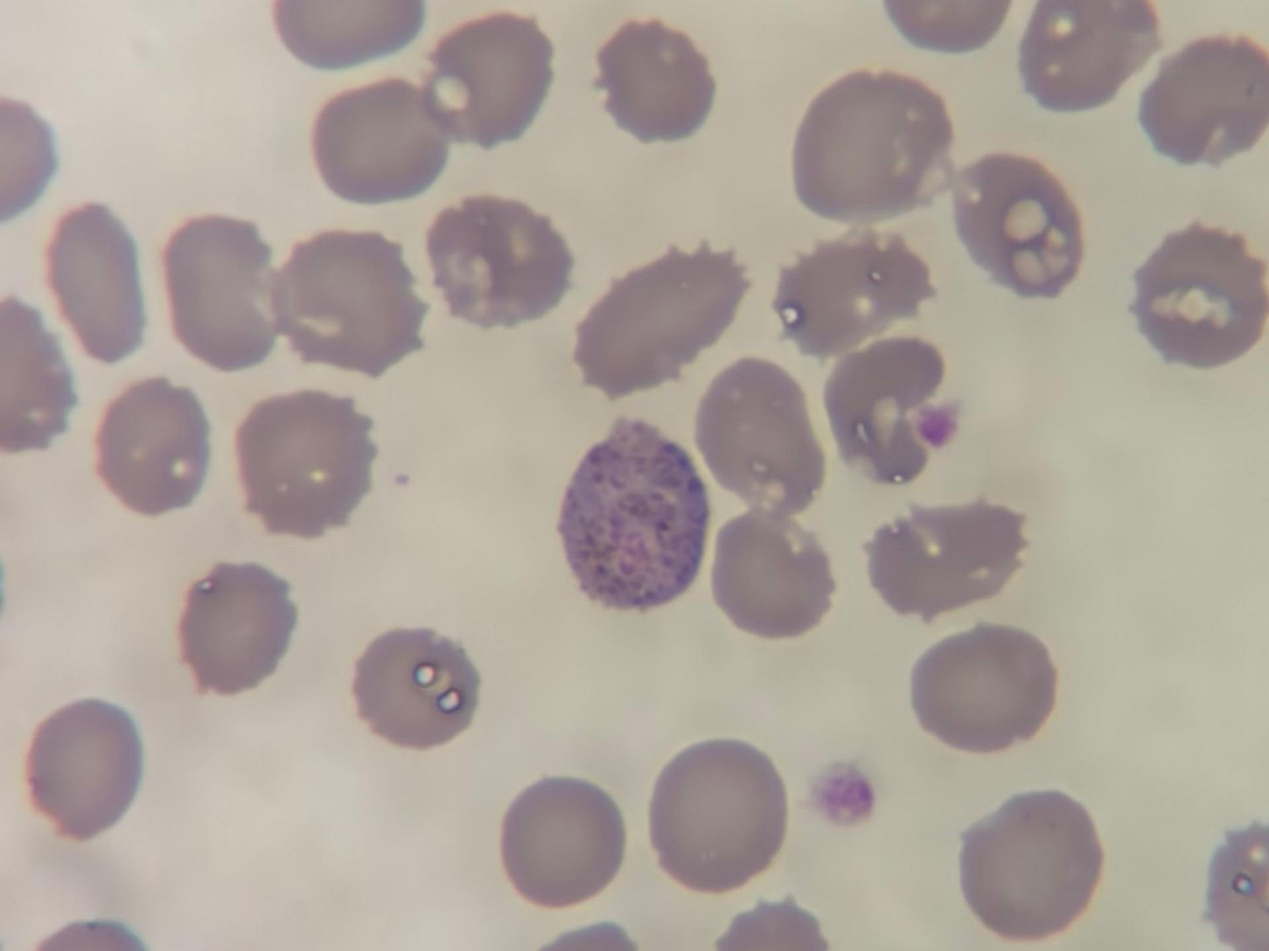Infected: (560, 424, 711, 612)
Uninfected: (582, 239, 748, 398), (791, 71, 956, 221), (269, 225, 420, 377), (961, 785, 1102, 941), (648, 737, 784, 897), (238, 391, 377, 542), (956, 148, 1087, 308), (694, 353, 820, 512), (432, 192, 574, 326), (912, 624, 1059, 753), (1130, 224, 1265, 364), (864, 503, 1033, 614), (775, 230, 931, 349), (1137, 32, 1269, 164), (165, 219, 278, 370), (828, 338, 943, 486), (427, 14, 551, 151), (502, 772, 623, 912), (313, 76, 444, 205), (44, 208, 154, 359), (29, 695, 141, 841), (355, 622, 480, 752), (99, 375, 213, 511), (176, 560, 294, 691), (1022, 0, 1156, 115), (599, 18, 715, 145), (718, 514, 839, 634)
